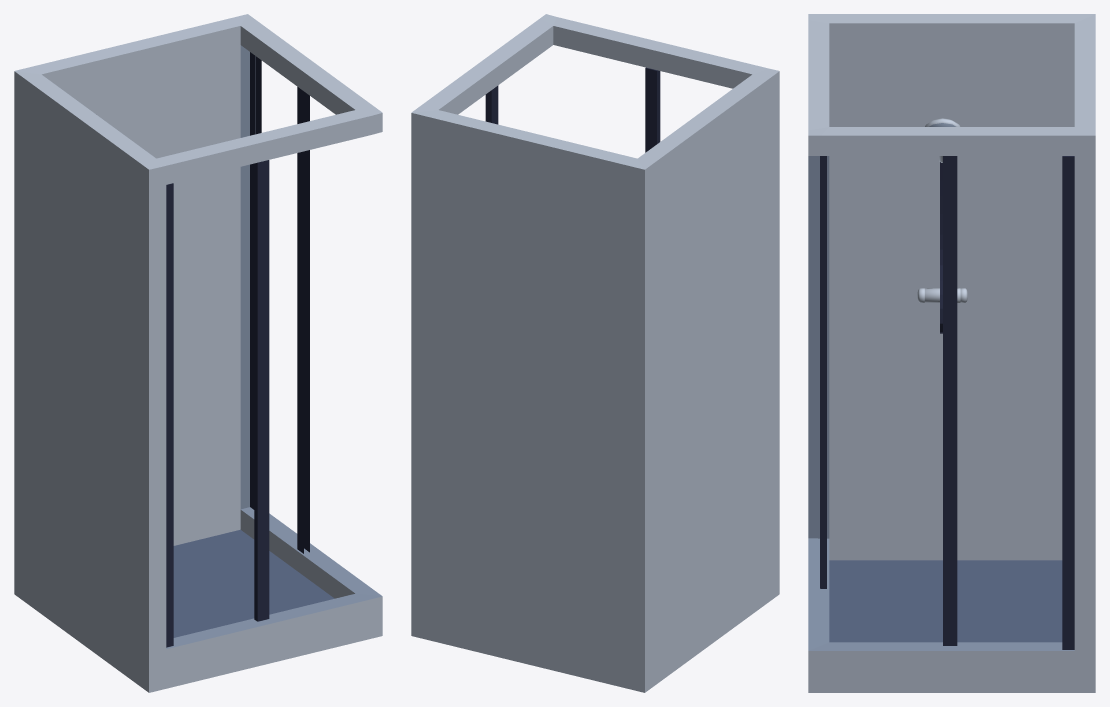
The model's file is ShowerCabinet.fbx.
3 renders of one model, left to right at view 1: azimuth 30°, elevation 25°; view 2: azimuth 150°, elevation 25°; view 3: azimuth 270°, elevation 25°, orthographic. The views are drawn at different scales.
Visible parts, largest first — view 1: Cabinet, Wall_one.003, Wall_one.002, Wall_one.001, Wall_one.000; view 2: Cabinet, Wall_one.003; view 3: Cabinet, Wall_one.002, Wall_one.000, Wall_one.003, Plane.
Boxes of the visible parts, box(x1,y1,x2,y2) form: Cabinet: box(14, 14, 382, 692); Wall_one.003: box(254, 160, 269, 621); Wall_one.002: box(297, 87, 309, 553); Wall_one.001: box(166, 183, 173, 647); Wall_one.000: box(250, 52, 261, 509); Cabinet: box(411, 14, 779, 692); Wall_one.003: box(645, 67, 660, 152); Cabinet: box(808, 14, 1095, 692); Wall_one.002: box(943, 156, 957, 645); Wall_one.000: box(1062, 156, 1074, 649); Wall_one.003: box(820, 156, 826, 588); Plane: box(917, 118, 967, 333).
Size of the model in its own units: 200 by 428 by 200.
